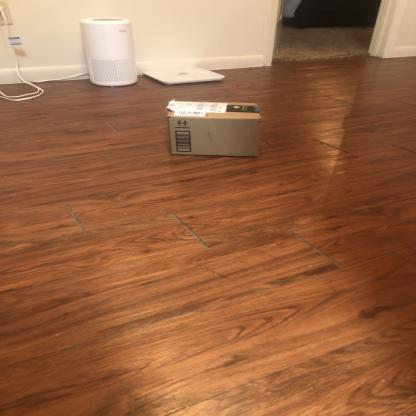package: (163, 100, 266, 161)
